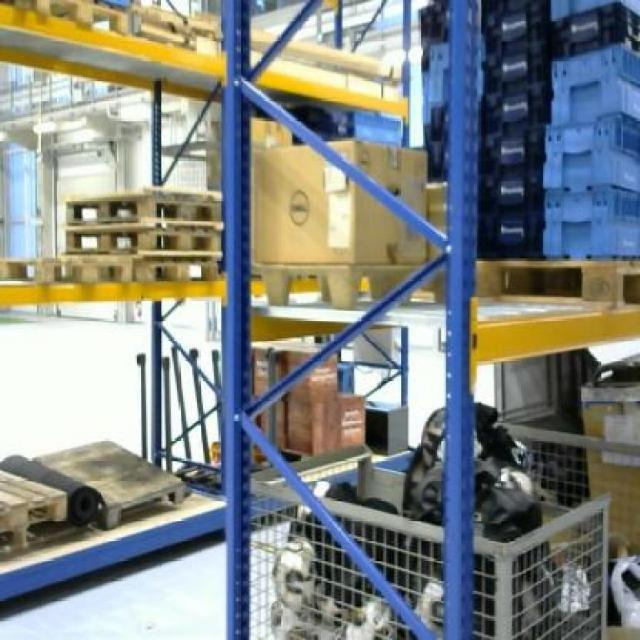box: (252, 138, 428, 264), (284, 344, 339, 402), (288, 397, 337, 452), (337, 390, 368, 455)
